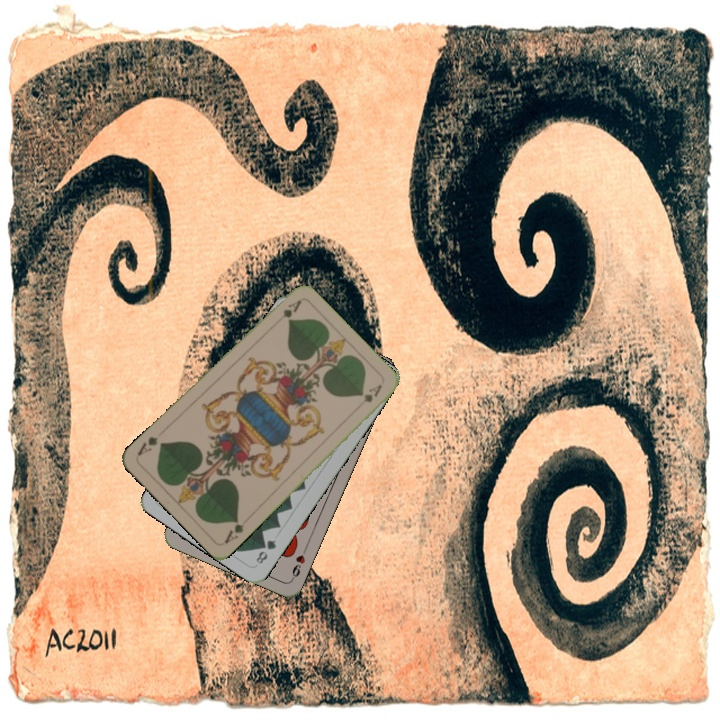G8: (252, 536, 279, 567)
GA: (220, 514, 247, 547), (279, 296, 304, 321)
H9: (287, 544, 309, 583)
